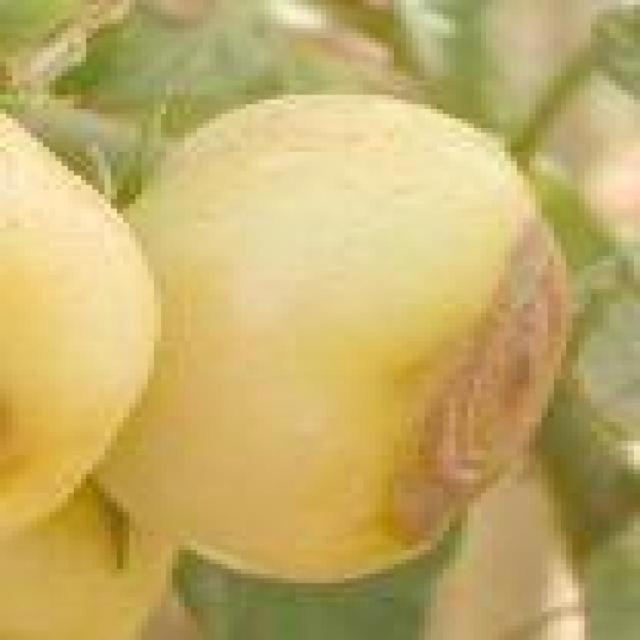Blossom End Rot Fruit: (260, 134, 380, 359)
